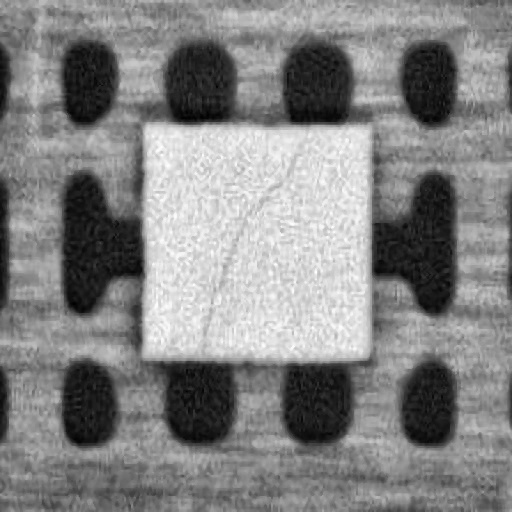DIE_CRACK: (202, 124, 308, 340)
